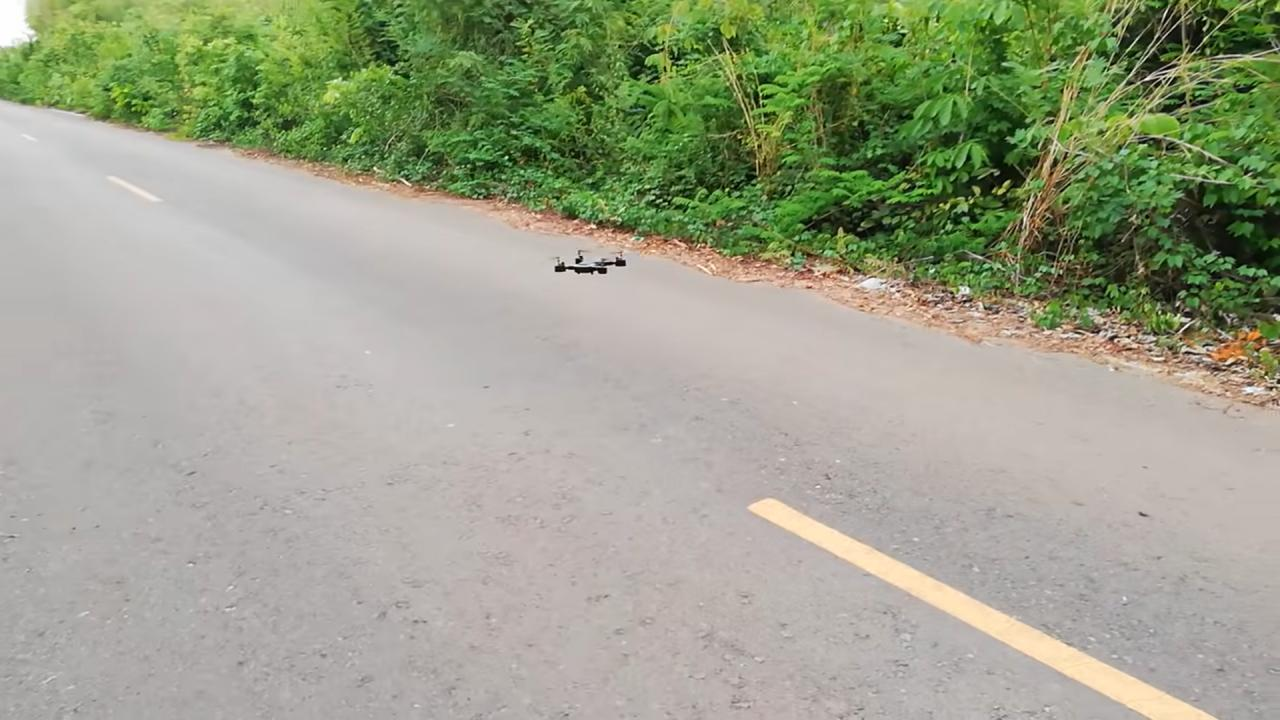Drone: (542, 240, 637, 288)
